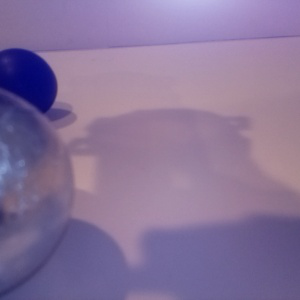alive_ball: (1, 89, 75, 295)
dead_ball: (1, 48, 58, 120)
